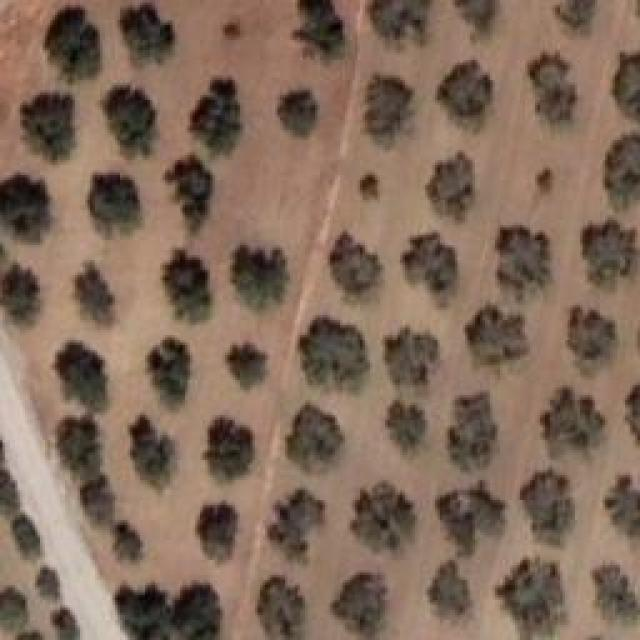Tree: (495, 558, 564, 640), (300, 318, 371, 391), (438, 482, 507, 557), (540, 388, 605, 456), (353, 483, 417, 551), (45, 7, 100, 82), (520, 470, 574, 546), (498, 225, 552, 300), (438, 60, 494, 131), (287, 403, 345, 471), (268, 490, 324, 560), (583, 220, 638, 291), (448, 393, 498, 471), (103, 85, 157, 156), (190, 77, 241, 152), (55, 344, 109, 414), (165, 154, 214, 230), (465, 305, 529, 363), (23, 92, 76, 162), (233, 245, 288, 311), (162, 250, 210, 323), (403, 233, 459, 295), (333, 573, 388, 636), (568, 305, 617, 375), (130, 415, 175, 491), (427, 152, 475, 222), (368, 75, 414, 148), (0, 175, 50, 242), (330, 233, 383, 296), (88, 172, 139, 237), (527, 52, 575, 121), (205, 415, 255, 481), (120, 2, 174, 62), (385, 327, 439, 387), (148, 338, 192, 410), (257, 577, 304, 640), (58, 417, 103, 482), (115, 585, 168, 640), (605, 132, 640, 210), (293, 0, 344, 53), (592, 565, 640, 621), (428, 560, 472, 618), (0, 263, 40, 325), (173, 585, 218, 640), (198, 502, 239, 562), (75, 263, 114, 326), (373, 0, 431, 42), (605, 475, 640, 538), (385, 400, 425, 452), (278, 90, 318, 137), (612, 53, 640, 120), (228, 344, 269, 388), (82, 478, 118, 528), (455, 0, 496, 33), (13, 515, 42, 560), (555, 0, 595, 31), (0, 588, 28, 630), (115, 522, 144, 562), (625, 385, 640, 442), (35, 568, 58, 600), (54, 612, 78, 640), (360, 175, 380, 200), (538, 167, 554, 192)
